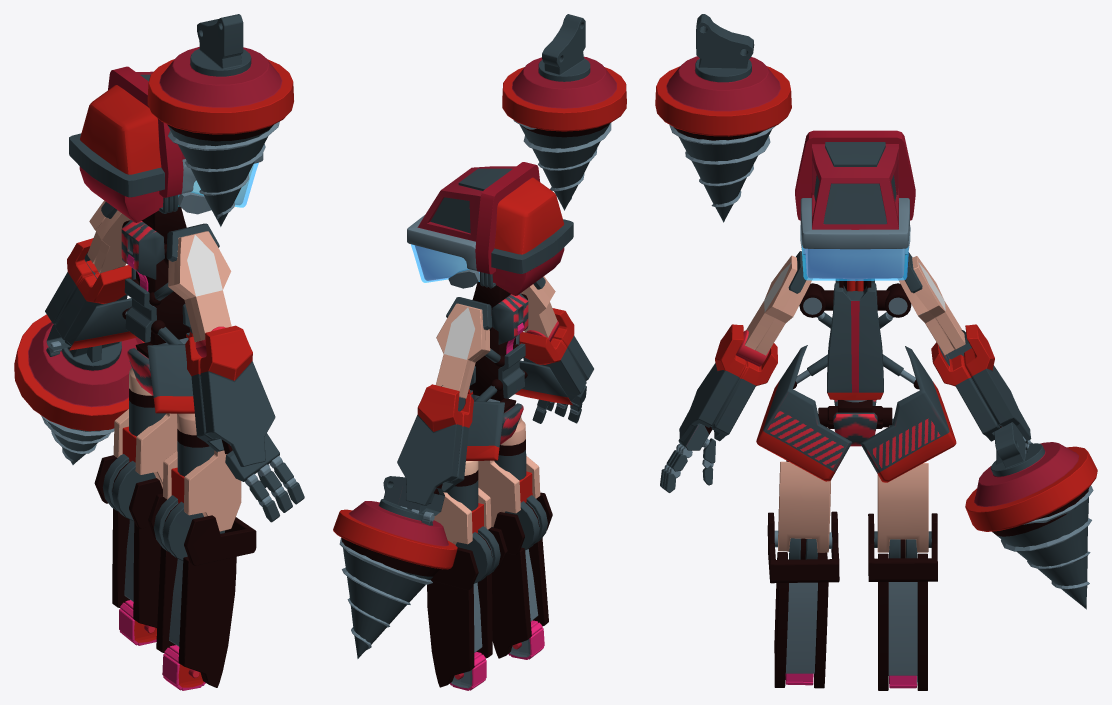
Rendered from TETssO.fbx_Scene.fbx.
3 views of the same model, side by side, from view 1: azimuth 30°, elevation 25°; view 2: azimuth 150°, elevation 25°; view 3: azimuth 270°, elevation 25° (orthographic). The views are drawn at different scales.
Parts seen in each view (by area): view 1: Cube.030, head, Cube.015, Cube.037, Cube.004, Cube.009, Cube.017, Cube.014, Cube.001, Cube.019, Cube.007, Cube.018 (+5 smaller); view 2: head, Cube.030, Cube.037, Cube.017, Cube.015, Cube.019, Cube.009, Cube.014, Cube.028, Cube.004, Cube.007, Cube.011 (+4 smaller); view 3: head, Cube.030, Cube.037, Cube.015, Cube.017, Plane.001, Cube.018, Cube.011, Cube.004, Cube.019, Cube.009, Cube.014 (+5 smaller).
Part boxes in pixels (left/top/right/bottom): Cube.030: left=147, top=14, right=293, bottom=226; head: left=69, top=66, right=263, bottom=222; Cube.015: left=148, top=493, right=256, bottom=690; Cube.037: left=14, top=314, right=144, bottom=464; Cube.004: left=185, top=325, right=275, bottom=466; Cube.009: left=153, top=413, right=241, bottom=560; Cube.017: left=94, top=455, right=162, bottom=645; Cube.014: left=102, top=367, right=177, bottom=521; Cube.001: left=166, top=223, right=231, bottom=342; Cube.019: left=45, top=238, right=131, bottom=345; Cube.007: left=124, top=244, right=189, bottom=344; Cube.018: left=147, top=344, right=194, bottom=413; head: left=407, top=162, right=573, bottom=295; Cube.030: left=502, top=14, right=626, bottom=210; Cube.037: left=333, top=476, right=457, bottom=658; Cube.017: left=427, top=527, right=507, bottom=690; Cube.015: left=492, top=492, right=552, bottom=659; Cube.019: left=397, top=384, right=473, bottom=505; Cube.009: left=478, top=404, right=547, bottom=550; Cube.014: left=434, top=461, right=500, bottom=583; Cube.028: left=436, top=297, right=491, bottom=398; Cube.004: left=519, top=308, right=593, bottom=400; Cube.007: left=470, top=315, right=525, bottom=401; Cube.011: left=466, top=401, right=504, bottom=460; head: left=795, top=130, right=915, bottom=280; Cube.030: left=655, top=14, right=791, bottom=222; Cube.037: left=965, top=422, right=1097, bottom=609; Cube.015: left=767, top=511, right=839, bottom=688; Cube.017: left=868, top=513, right=937, bottom=690; Plane.001: left=827, top=283, right=883, bottom=400; Cube.018: left=756, top=345, right=852, bottom=481; Cube.011: left=860, top=346, right=956, bottom=482; Cube.004: left=679, top=324, right=777, bottom=441; Cube.019: left=931, top=324, right=1031, bottom=441; Cube.009: left=774, top=460, right=832, bottom=559; Cube.014: left=874, top=418, right=931, bottom=558.
Bounding box in the file's own units: 266 × 1128 × 685.
4 materials, 1 textured.
